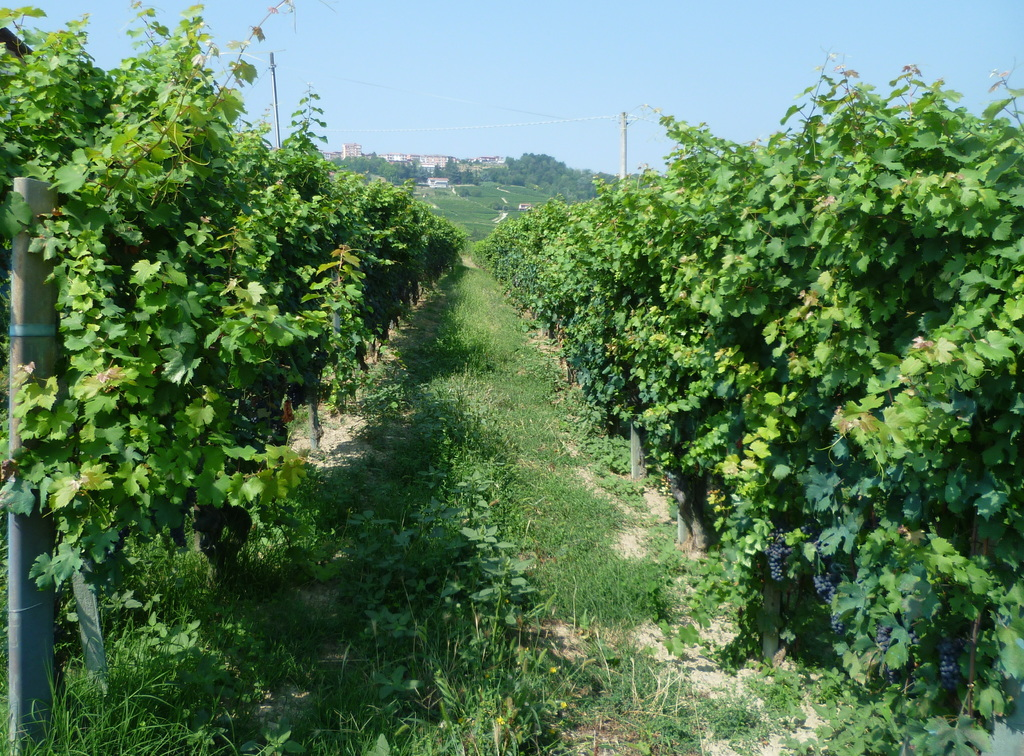Tree: (471, 40, 1024, 730), (0, 0, 470, 593), (488, 154, 645, 199), (329, 149, 467, 182)
